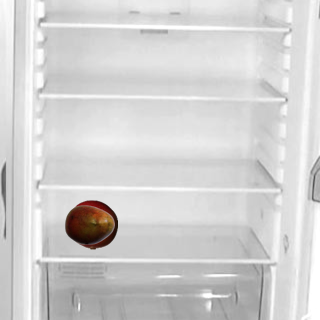Apple Braeburn: (67, 199, 117, 249)
Mango Red: (64, 199, 114, 249)
